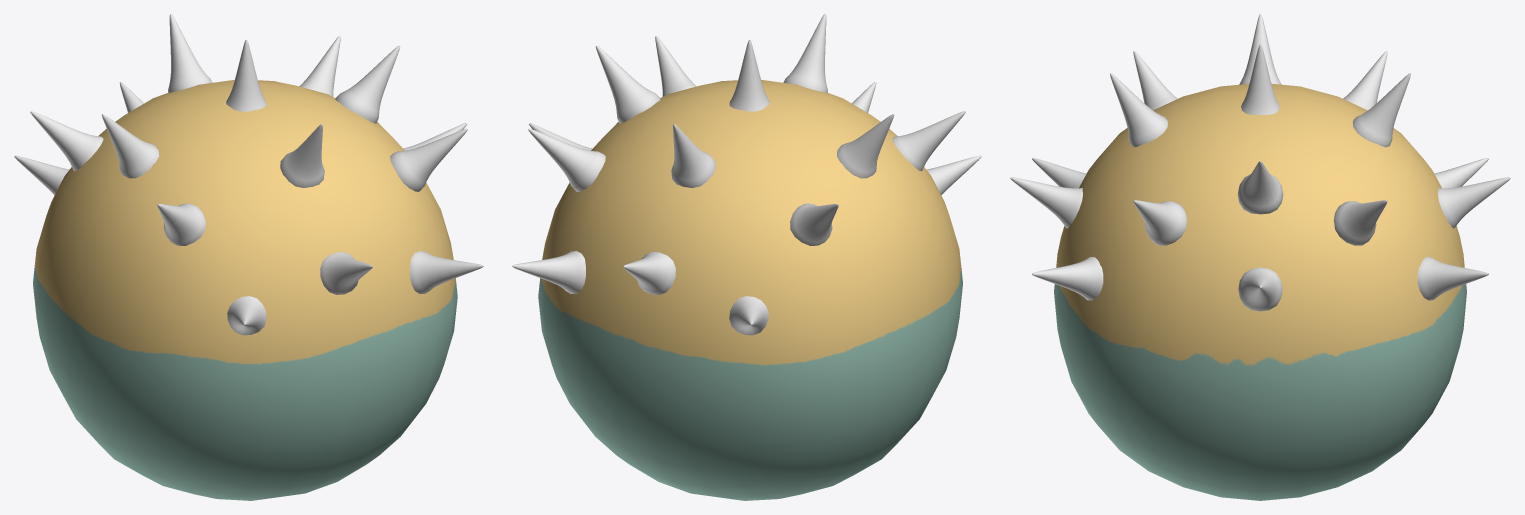
File: Body.fbx
3 renders of one model, left to right at view 1: azimuth 30°, elevation 25°; view 2: azimuth 150°, elevation 25°; view 3: azimuth 270°, elevation 25°, orthographic.
Visible parts, largest first — view 1: polySurface15; view 2: polySurface15; view 3: polySurface15.
Boxes of the visible parts, x1=… form: polySurface15: x1=14, y1=14, x2=483, y2=500; polySurface15: x1=512, y1=14, x2=981, y2=500; polySurface15: x1=1010, y1=14, x2=1510, y2=500.
Size of the model in its own units: 0.8688 by 0.9051 by 0.9438.
2 materials, 1 textured.
